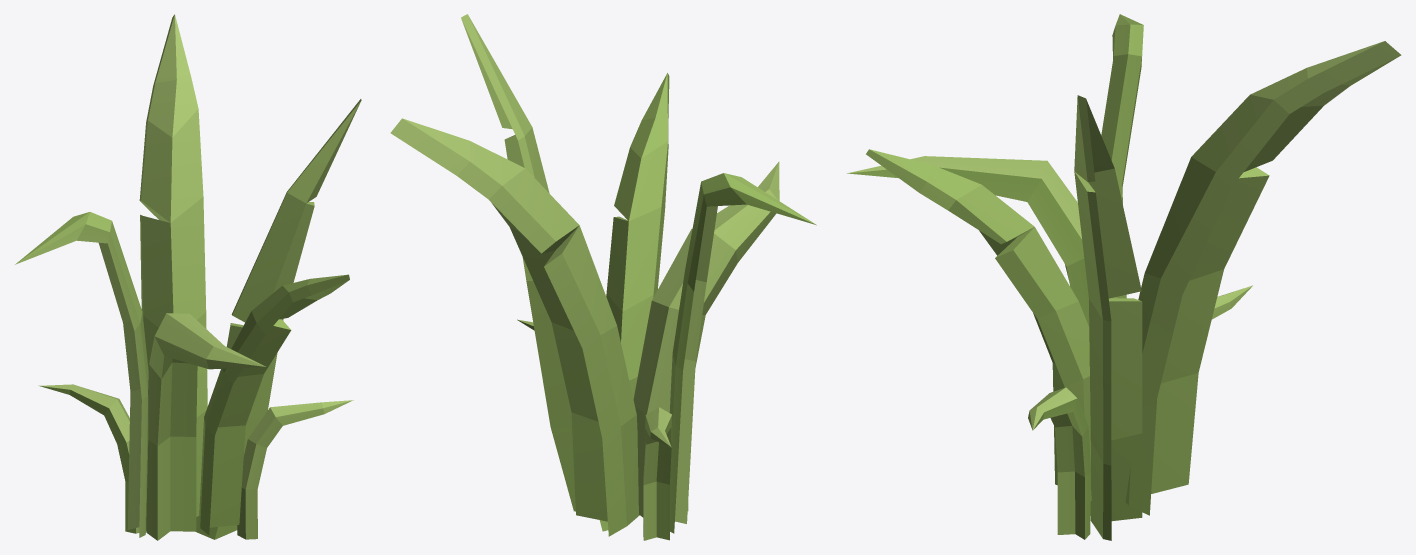
Rendered from Grass2.obj.
The picture shows the model from 3 angles, left to right: view 1: azimuth 30°, elevation 25°; view 2: azimuth 150°, elevation 25°; view 3: azimuth 270°, elevation 25°; orthographic projection. The views are drawn at different scales.
Parts seen in each view (by area): view 1: PP_Grass_11; view 2: PP_Grass_11; view 3: PP_Grass_11.
Part boxes in pixels (x1,y1,x2,y2): PP_Grass_11: [15, 14, 361, 540]; PP_Grass_11: [390, 14, 816, 540]; PP_Grass_11: [847, 14, 1401, 540].
Size of the model in its own units: 0.3381 by 0.4083 by 0.3895.
1 material, 1 textured.
